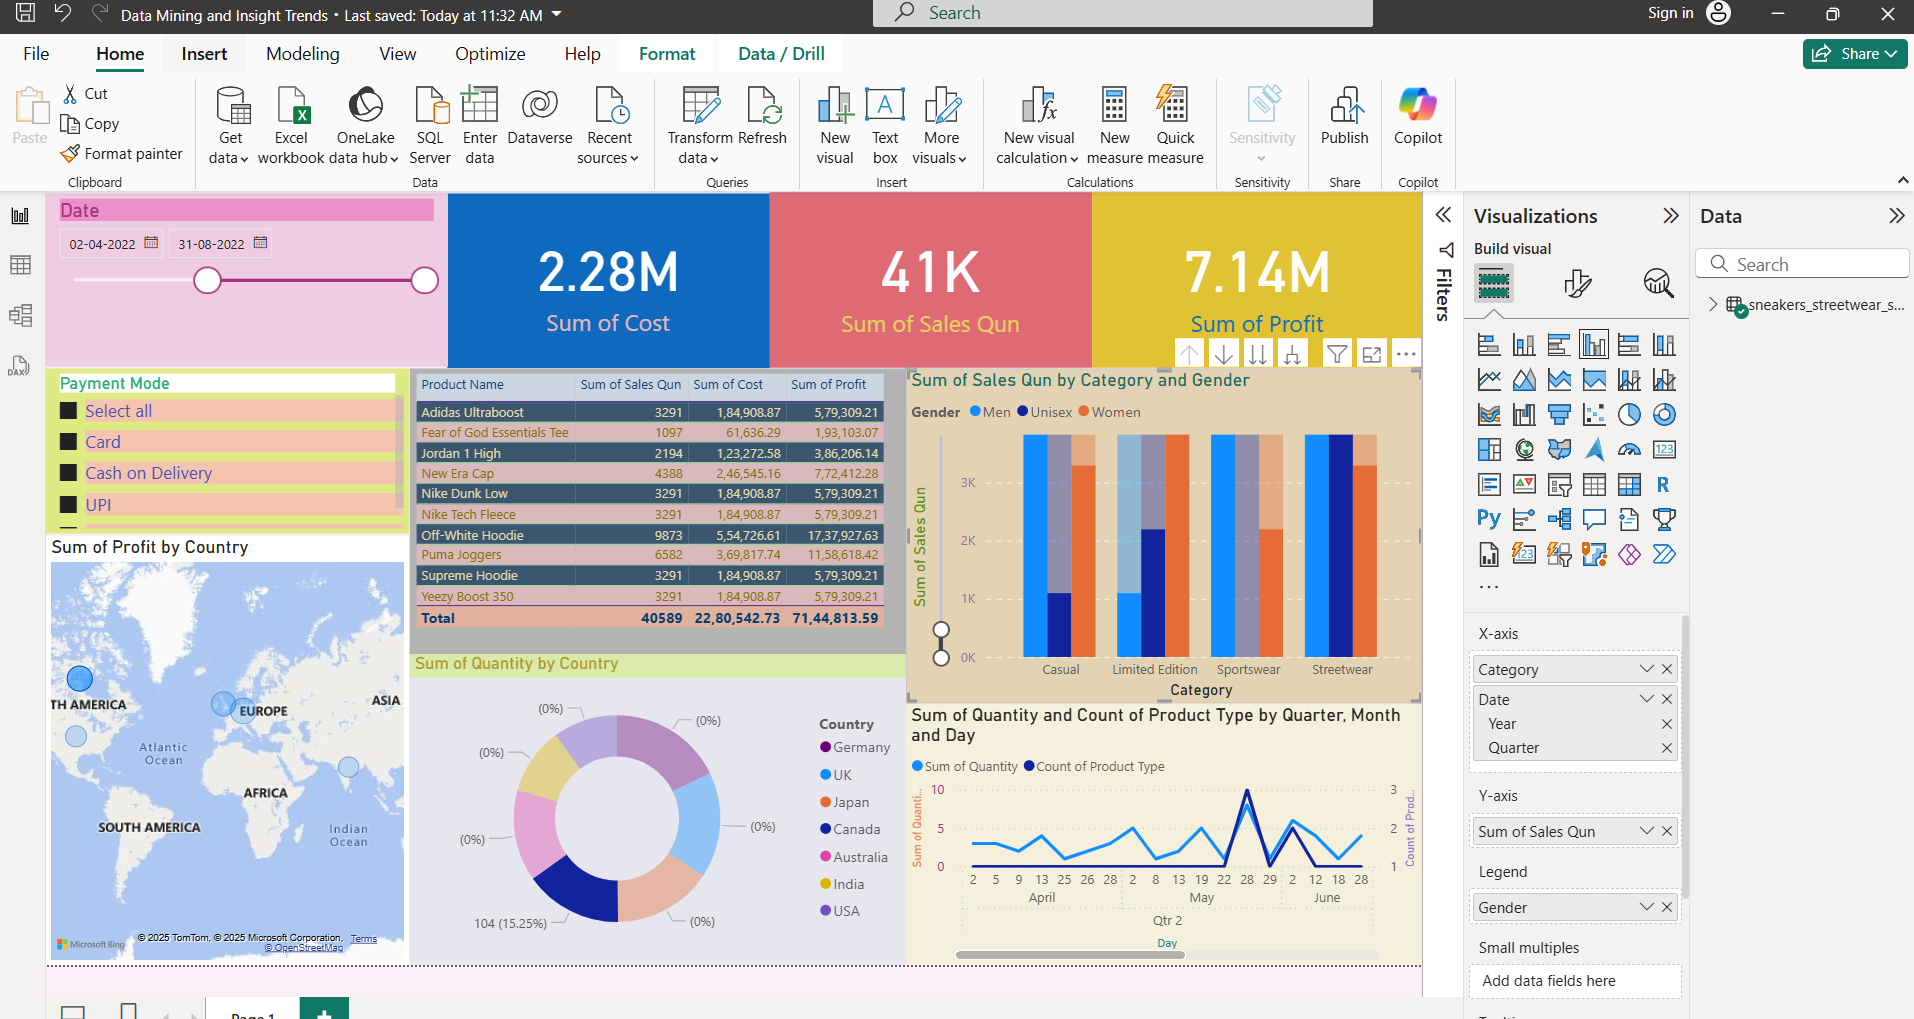

The dashboard page shown, as its layout file describes it:
{"tool":"powerbi","page":{"name":"Page 1","canvas":[1280,720],"ordinal":0},"visuals":[{"type":"card","fields":{"Values":["Sum(sneakers_streetwear_sales_data.Sum of Sales Quantity)"]},"box":[673.3,1.2,299.8,163.4],"z":0},{"type":"card","fields":{"Values":["Sum(sneakers_streetwear_sales_data.Sum of Cost Unit Price)"]},"box":[373.5,2.5,299.8,162.2],"z":1000},{"type":"card","fields":{"Values":["Sum(sneakers_streetwear_sales_data.Sum of Profit Amount)"]},"box":[973.1,1.2,307.2,163.4],"z":2000},{"type":"clusteredColumnChart","fields":{"Category":["sneakers_streetwear_sales_data.Category","sneakers_streetwear_sales_data.Date.Variation.Date Hierarchy.Year","sneakers_streetwear_sales_data.Date.Variation.Date Hierarchy.Quarter"],"Y":["Sum(sneakers_streetwear_sales_data.Sales Qun)"],"Series":["sneakers_streetwear_sales_data.Gender"]},"box":[800,165.1,480.2,311.6],"z":3000},{"type":"lineChart","fields":{"Category":["sneakers_streetwear_sales_data.Date.Variation.Date Hierarchy.Quarter","sneakers_streetwear_sales_data.Date.Variation.Date Hierarchy.Month","sneakers_streetwear_sales_data.Date.Variation.Date Hierarchy.Day"],"Y2":["CountNonNull(sneakers_streetwear_sales_data.Product Type)"],"Y":["Sum(sneakers_streetwear_sales_data.Quantity)"]},"box":[799.8,476.7,480.4,243.3],"z":4000},{"type":"donutChart","fields":{"Y":["Sum(sneakers_streetwear_sales_data.Quantity)"],"Category":["sneakers_streetwear_sales_data.Country"]},"box":[337.9,430,462,290],"z":5000},{"type":"tableEx","fields":{"Values":["sneakers_streetwear_sales_data.Product Name","Sum(sneakers_streetwear_sales_data.Sales Quantity)","Sum(sneakers_streetwear_sales_data.Cost Unit Price)","Sum(sneakers_streetwear_sales_data.Profit Amount)"]},"box":[337.9,164.6,462,265.4],"z":6000},{"type":"map","fields":{"Category":["sneakers_streetwear_sales_data.Country"],"Size":["Sum(sneakers_streetwear_sales_data.Profit)"]},"box":[0,320.7,337.9,399.3],"z":7000},{"type":"slicer","fields":{"Values":["sneakers_streetwear_sales_data.Payment Mode"]},"box":[0,164.6,337.9,153.6],"z":8000},{"type":"slicer","fields":{"Values":["sneakers_streetwear_sales_data.Date"]},"box":[0,2.5,373.5,161],"z":9000}]}

Visuals, with their boxes on the page's 1280x720 design canvas (x1, y1, x2, y2). These are canvas units, not pixel positions in the 1914x1019 screenshot, which may show the page scaled, cropped or inside an application window:
card - Sum(sneakers_streetwear_sales_data.Sum of Sales Quantity): box=[673, 1, 973, 165]
card - Sum(sneakers_streetwear_sales_data.Sum of Cost Unit Price): box=[374, 2, 673, 165]
card - Sum(sneakers_streetwear_sales_data.Sum of Profit Amount): box=[973, 1, 1280, 165]
clusteredColumnChart - sneakers_streetwear_sales_data.Category x sneakers_streetwear_sales_data.Date.Variation.Date Hierarchy.Year: box=[800, 165, 1280, 477]
lineChart - sneakers_streetwear_sales_data.Date.Variation.Date Hierarchy.Quarter x sneakers_streetwear_sales_data.Date.Variation.Date Hierarchy.Month: box=[800, 477, 1280, 720]
donutChart - Sum(sneakers_streetwear_sales_data.Quantity) x sneakers_streetwear_sales_data.Country: box=[338, 430, 800, 720]
tableEx - sneakers_streetwear_sales_data.Product Name x Sum(sneakers_streetwear_sales_data.Sales Quantity): box=[338, 165, 800, 430]
map - sneakers_streetwear_sales_data.Country x Sum(sneakers_streetwear_sales_data.Profit): box=[0, 321, 338, 720]
slicer - sneakers_streetwear_sales_data.Payment Mode: box=[0, 165, 338, 318]
slicer - sneakers_streetwear_sales_data.Date: box=[0, 2, 374, 164]
